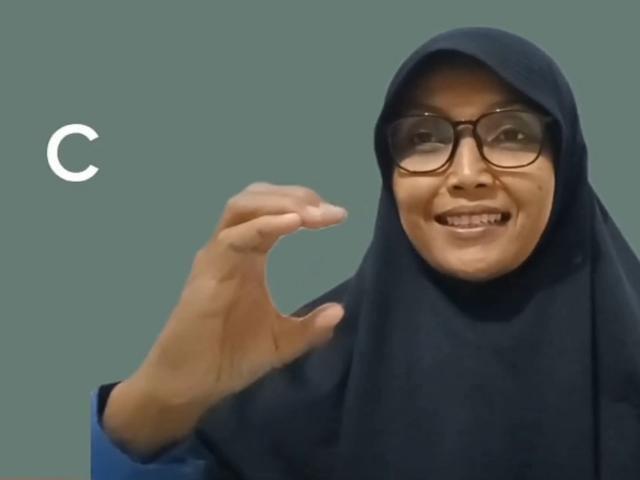C: (144, 180, 346, 406)
